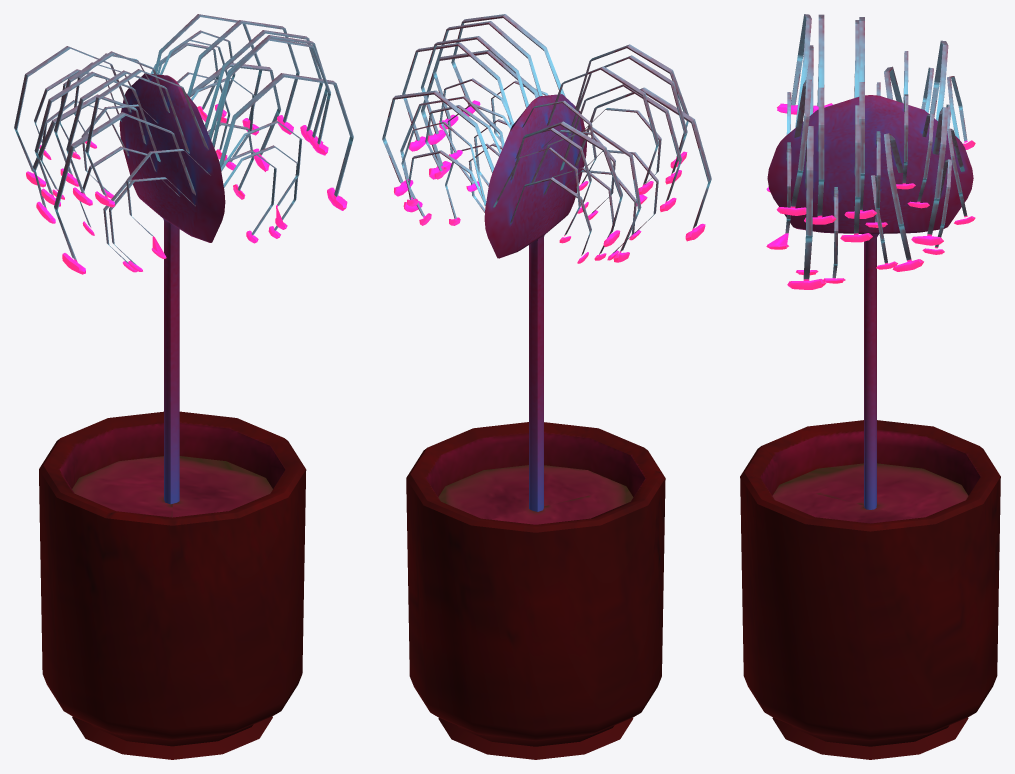
File: SPACEBLUM.fbx
The picture shows the model from 3 angles, left to right: view 1: azimuth 30°, elevation 25°; view 2: azimuth 150°, elevation 25°; view 3: azimuth 270°, elevation 25°; orthographic projection. The views are drawn at different scales.
Parts seen in each view (by area): view 1: jord; view 2: jord; view 3: jord.
Boxes of the visible parts, bbox=[...] form: jord: bbox=[14, 14, 353, 759]; jord: bbox=[382, 14, 711, 759]; jord: bbox=[740, 14, 1000, 759].
Bounding box in the file's own units: 70.2 × 155 × 54.8.
